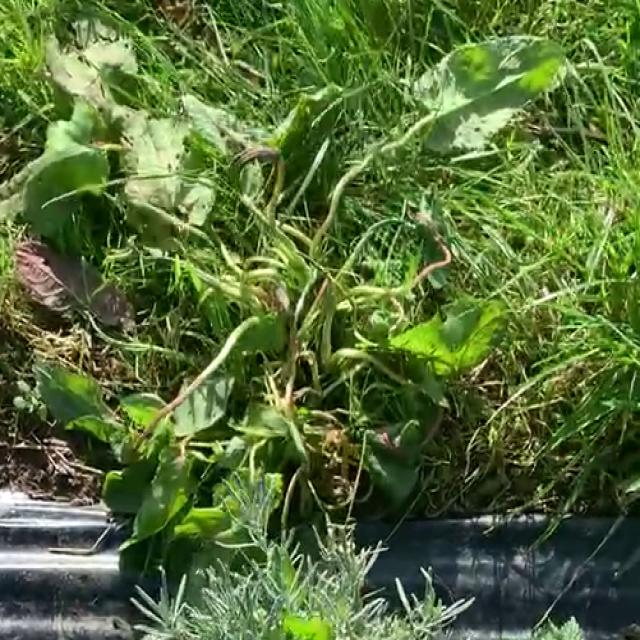organic waste: (16, 16, 590, 546)
